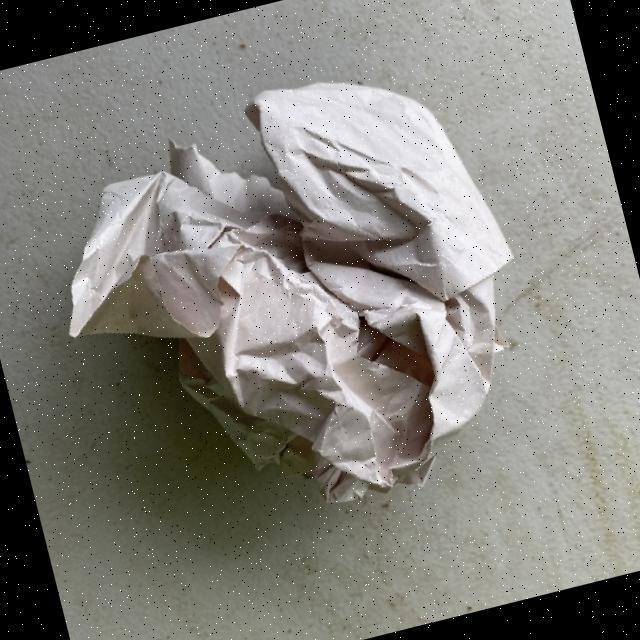paper: (22, 39, 562, 560)
